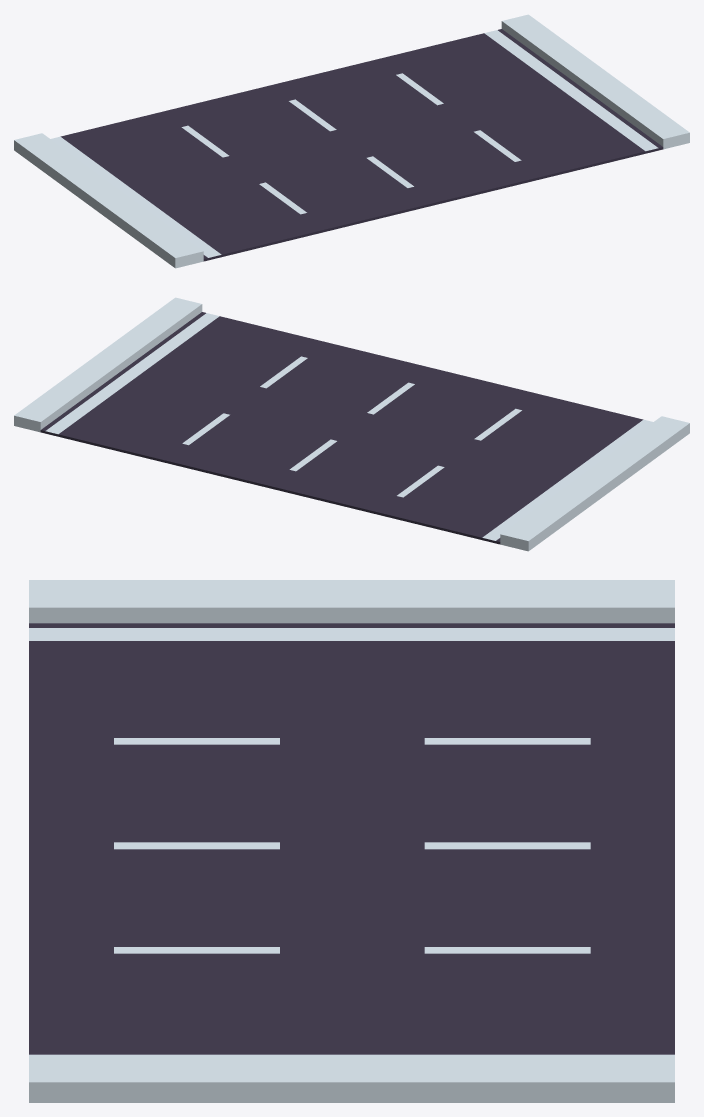
The model's file is road.fbx.
3 views of the same model, one above another, from view 1: azimuth 30°, elevation 25°; view 2: azimuth 150°, elevation 25°; view 3: azimuth 270°, elevation 25° (orthographic). The views are drawn at different scales.
Parts seen in each view (by area): view 1: Plane.011, Plane.007, Plane.008; view 2: Plane.011, Plane.007, Plane.008; view 3: Plane.011, Plane.007, Plane.008, Plane.002, Plane.013, Plane.004, Plane.012, Plane.005, Plane.006.
Boxes of the visible parts, box(x1,y1,x2,y2) form: Plane.011: box(60, 29, 663, 261); Plane.007: box(14, 14, 689, 268); Plane.008: box(51, 30, 658, 257); Plane.011: box(40, 312, 643, 544); Plane.007: box(14, 297, 689, 551); Plane.008: box(45, 313, 652, 540); Plane.011: box(29, 623, 674, 1054); Plane.007: box(29, 580, 674, 1102); Plane.008: box(29, 628, 674, 1056); Plane.002: box(424, 842, 590, 849); Plane.013: box(114, 842, 279, 849); Plane.004: box(424, 947, 590, 953); Plane.012: box(424, 738, 590, 744); Plane.005: box(114, 738, 279, 744); Plane.006: box(114, 947, 279, 953).
Size of the model in its own units: 3811 by 72.9 by 2071.
